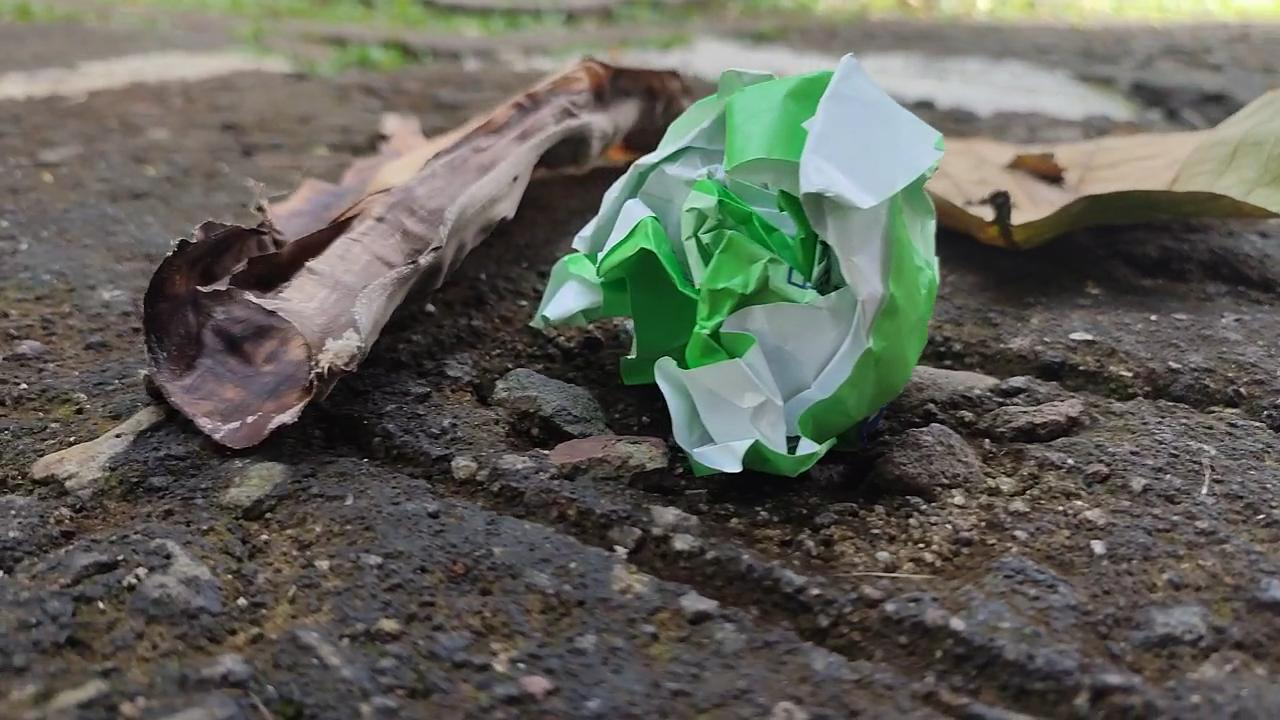Paper: (528, 73, 956, 469)
